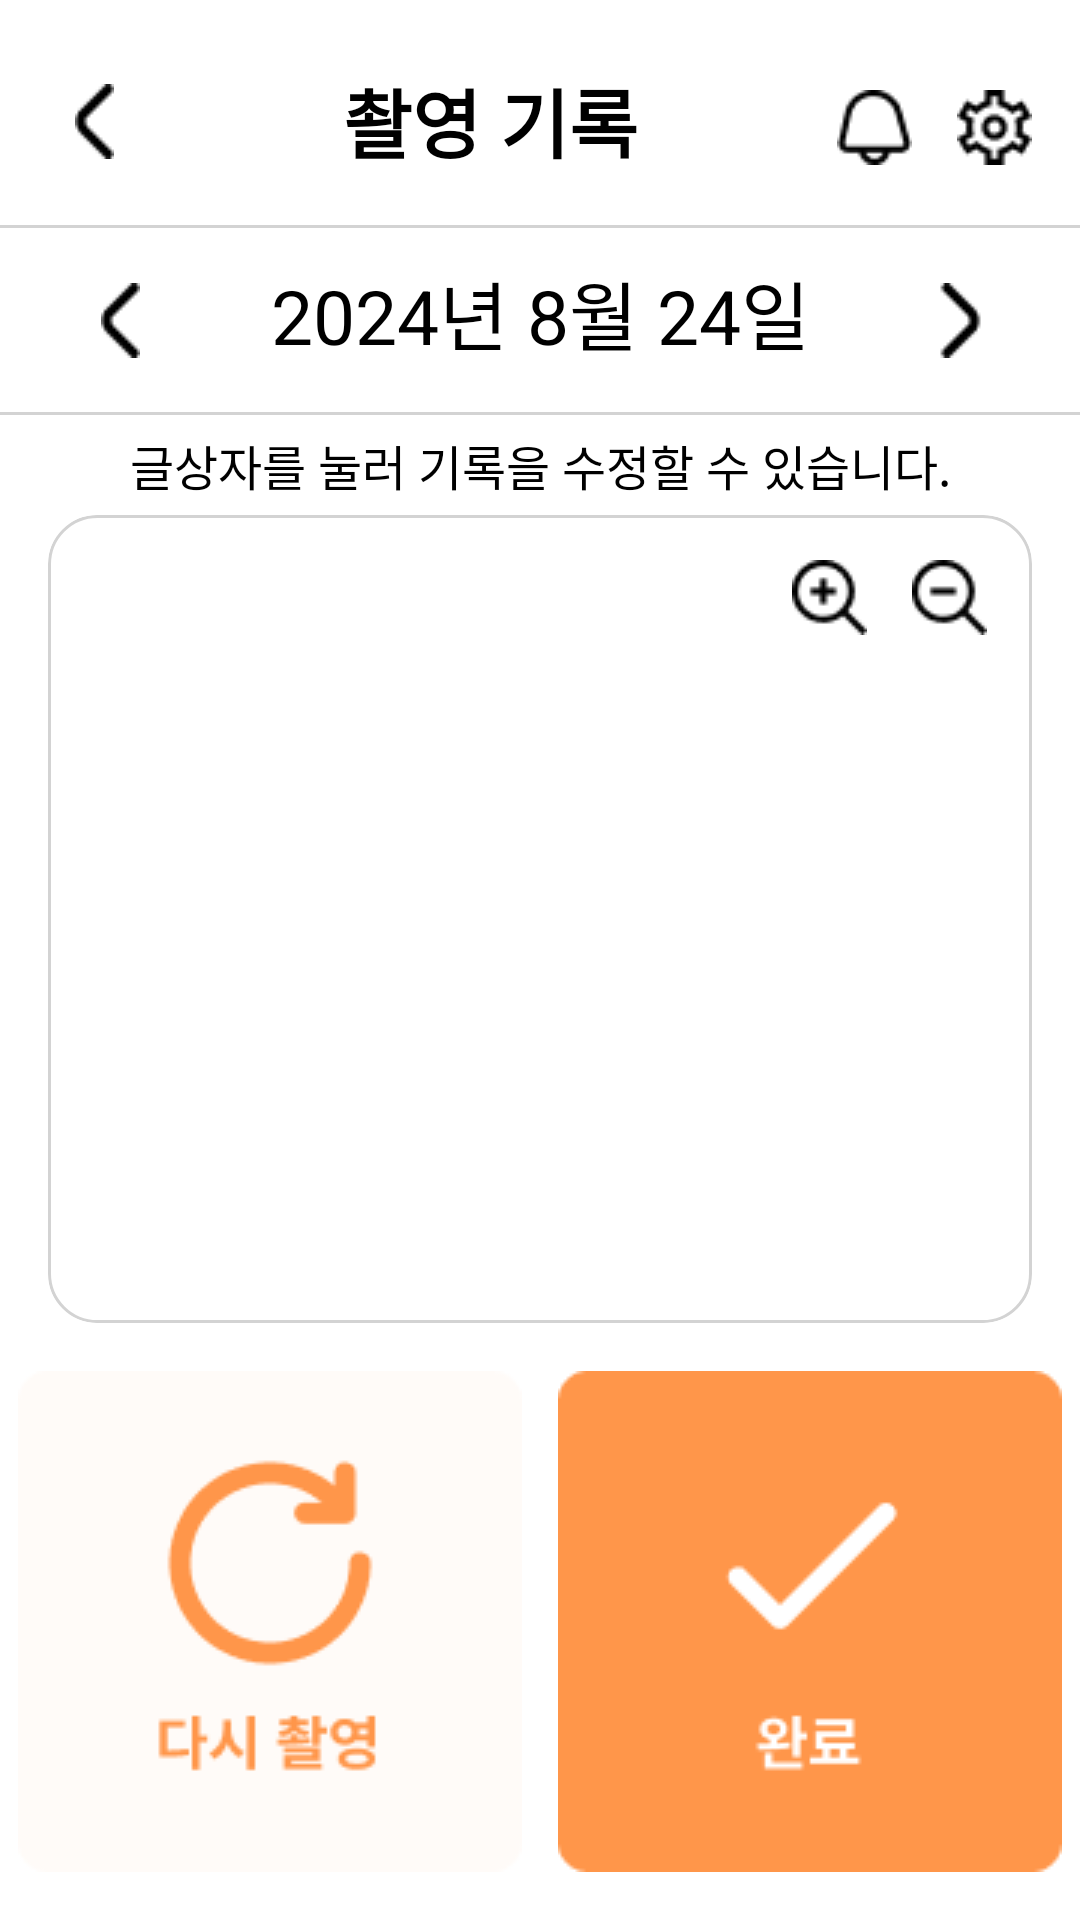

Icons on this 1080 × 1920 Android screen, each with its box as Rect(x1, y1, x2, y2):
bell: Rect(837, 90, 912, 165)
left arrow: Rect(75, 84, 114, 159), Rect(101, 283, 140, 358)
right arrow: Rect(940, 283, 981, 358)
setting: Rect(957, 90, 1032, 165)
축소: Rect(912, 560, 987, 635)
확대: Rect(792, 560, 867, 635)
